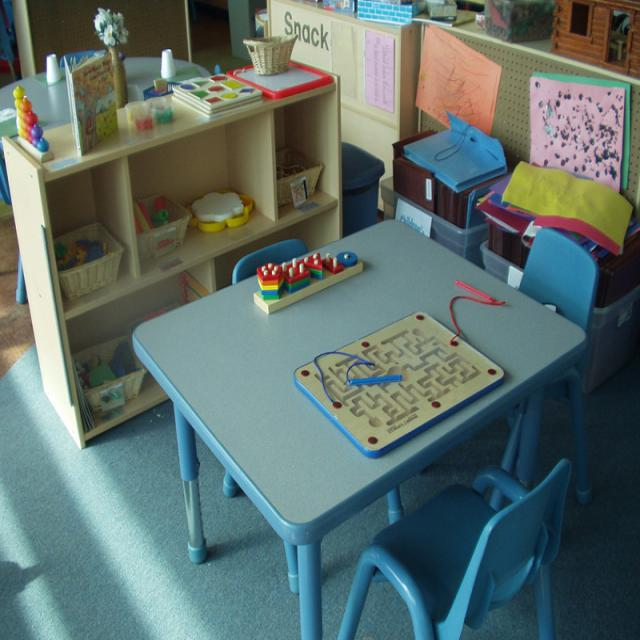basket crop: (70, 332, 142, 414), (51, 219, 123, 299), (130, 189, 189, 259), (275, 142, 322, 206), (242, 33, 296, 74)
basket of acorns: (478, 237, 638, 390)
book case: (63, 52, 117, 156)
box occluded: (483, 0, 550, 41)
bucket: (339, 141, 386, 234)
bulletin board: (364, 30, 394, 110)
chair cushion: (335, 457, 570, 638)
chair part: (518, 225, 597, 501)
floor -X: (1, 41, 638, 638)
flowers in pot: (94, 6, 126, 44)
folder: (403, 109, 506, 192)
folders: (485, 173, 637, 304)
furniture crop: (267, 0, 639, 307)
paper cup: (45, 53, 60, 81), (160, 49, 175, 77)
paper cup with straws: (527, 74, 623, 191)
papers: (502, 159, 634, 250)
shelves crop: (2, 57, 342, 447)
table -X: (132, 218, 584, 638)
table runner: (0, 54, 206, 144)
toy crio: (292, 309, 503, 455), (253, 250, 362, 314), (549, 0, 639, 77), (171, 70, 262, 117), (11, 83, 54, 161)
vase -X: (107, 44, 126, 103)
wall clock: (0, 0, 266, 77)
